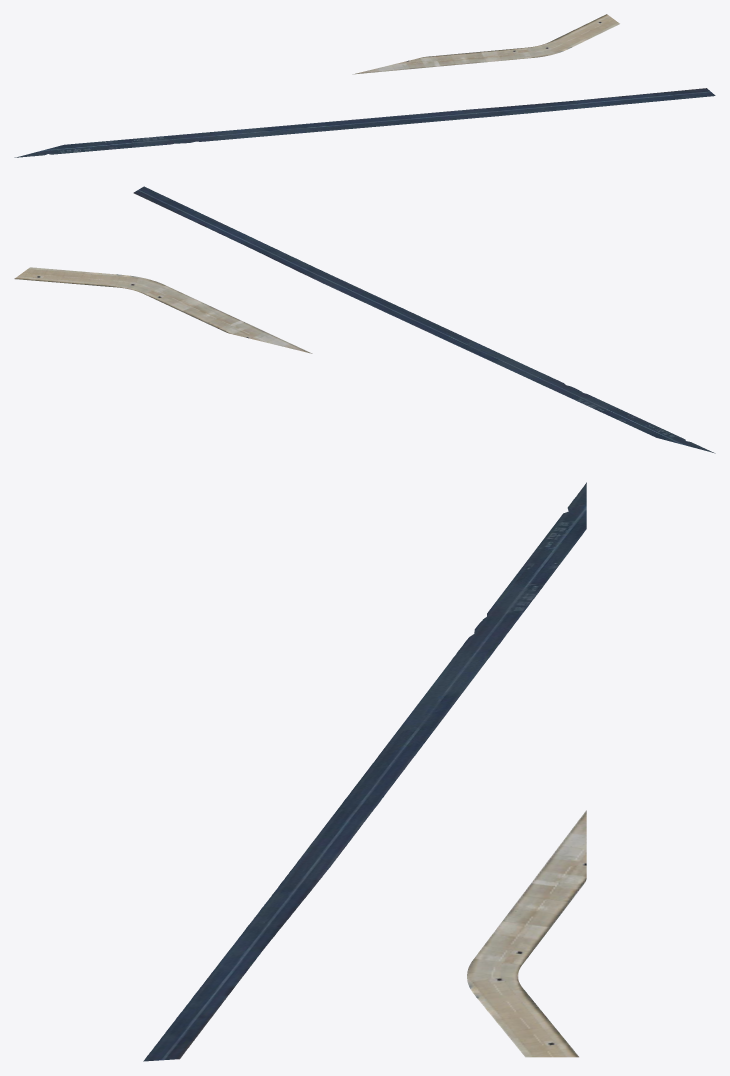
Rendered from roads_context_05.glb.
3 renders of one model, top to bottom at view 1: azimuth 30°, elevation 25°; view 2: azimuth 150°, elevation 25°; view 3: azimuth 270°, elevation 25°, orthographic. The views are drawn at different scales.
Visible parts, largest first — view 1: I090001680001062A0.001; view 2: I090001680001062A0.001; view 3: I090001680001062A0.001.
Part boxes in pixels (left/top/right/bottom): I090001680001062A0.001: left=14, top=14, right=715, bottom=157; I090001680001062A0.001: left=14, top=186, right=715, bottom=453; I090001680001062A0.001: left=143, top=482, right=586, bottom=1061.
Bounding box in the file's own units: 262 × 1.16 × 85.25.
1 material, 1 textured.
